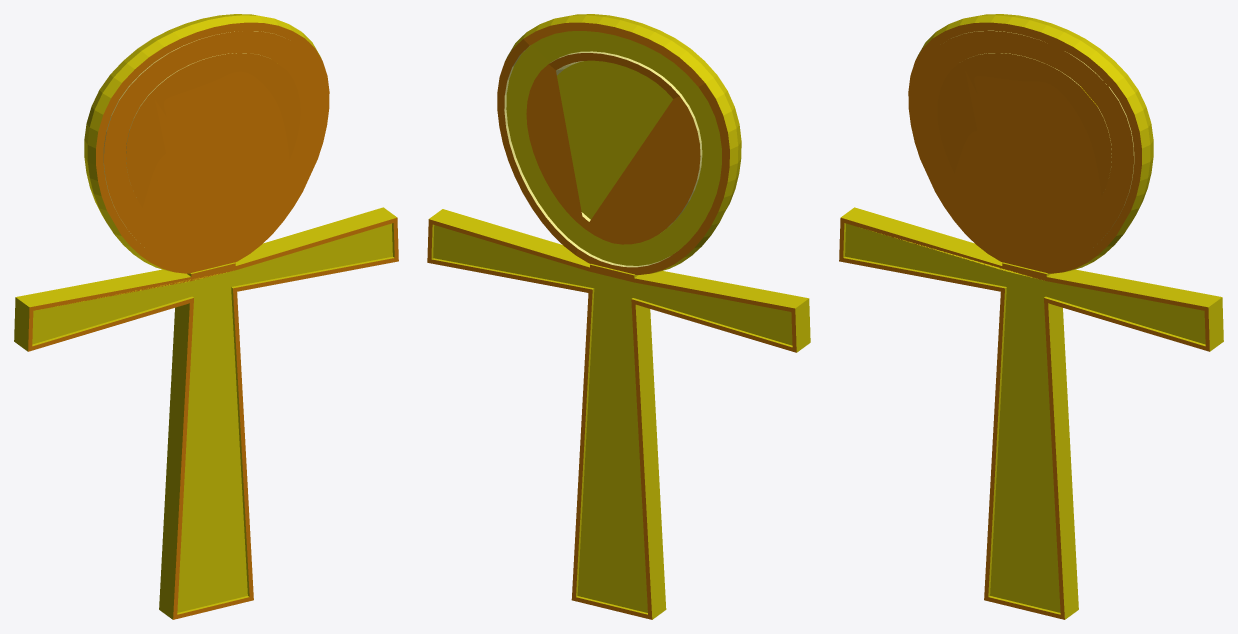
File: ankh.fbx
3 views of the same model, side by side, from view 1: azimuth 30°, elevation 25°; view 2: azimuth 150°, elevation 25°; view 3: azimuth 330°, elevation 25° (orthographic).
Visible parts, largest first — view 1: Ankh; view 2: Ankh; view 3: Ankh.
Boxes of the visible parts, x1=… form: Ankh: x1=14, y1=14, x2=398, y2=619; Ankh: x1=427, y1=14, x2=810, y2=619; Ankh: x1=839, y1=14, x2=1223, y2=619.
Bounding box in the file's own units: 458 × 692 × 31.8.
1 material, 1 textured.
